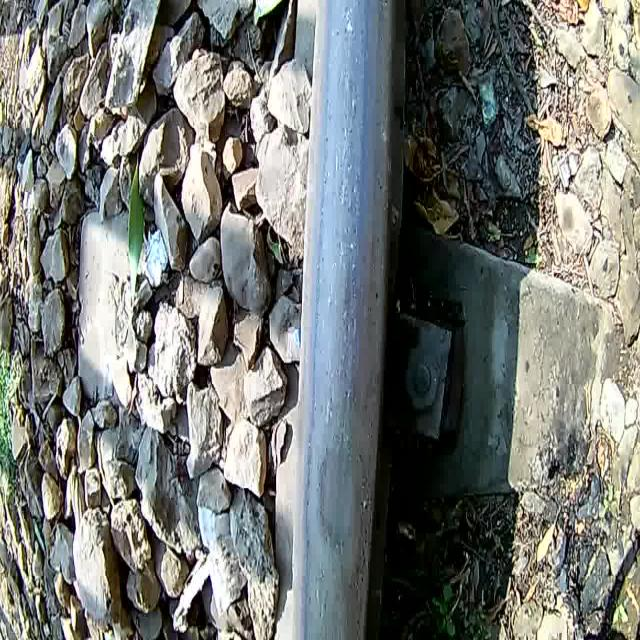Squats: (288, 435, 380, 570)
